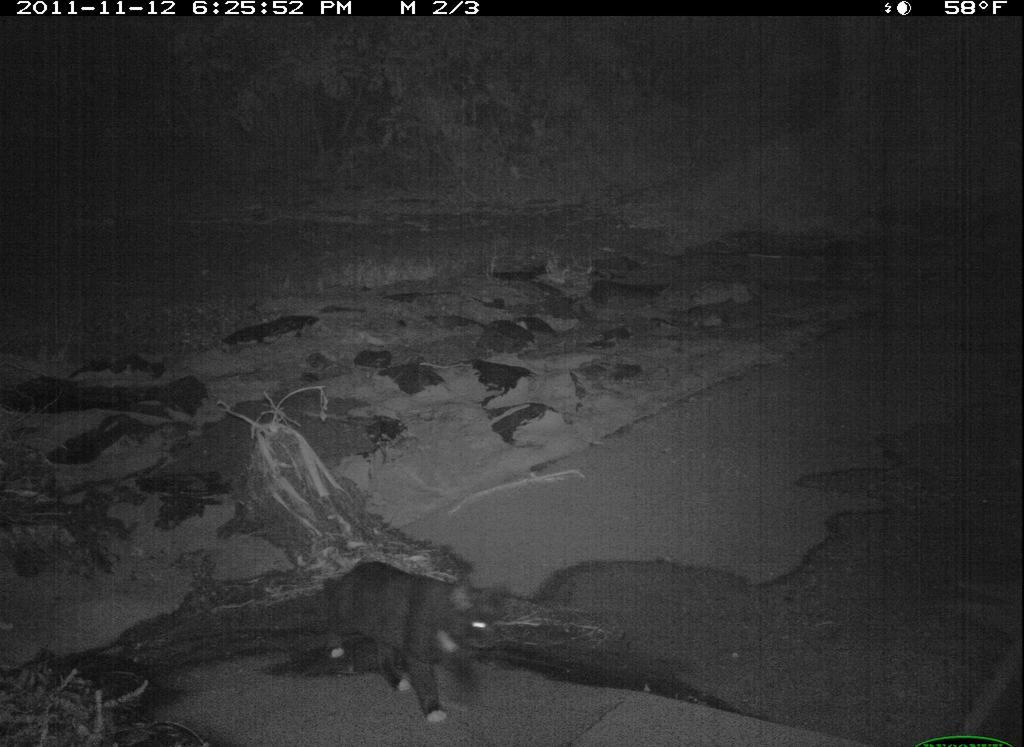cat: (289, 514, 541, 743)
